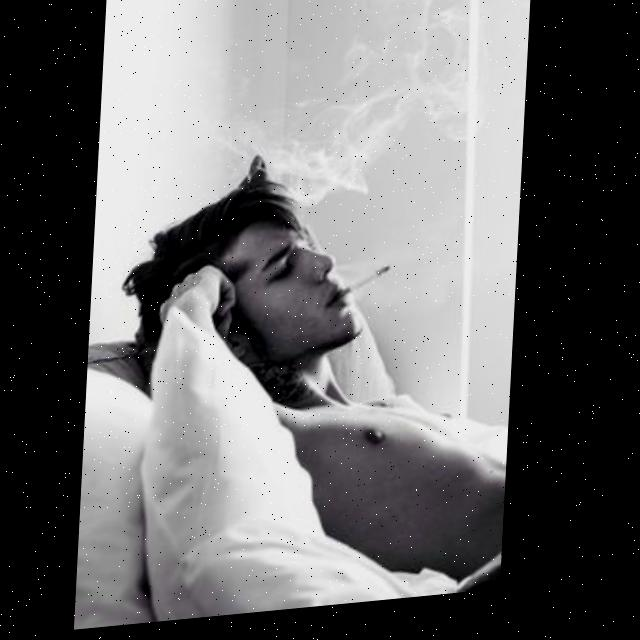cigarette: (336, 272, 394, 307)
